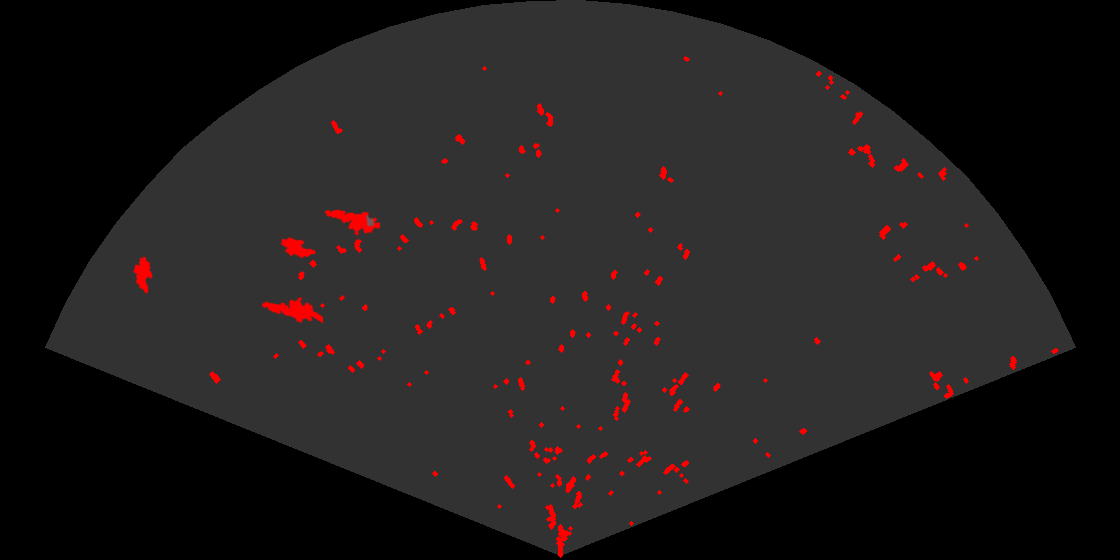AUV: (279, 235, 318, 260), (131, 255, 154, 296)
frogman: (260, 296, 323, 325), (322, 208, 380, 238)
